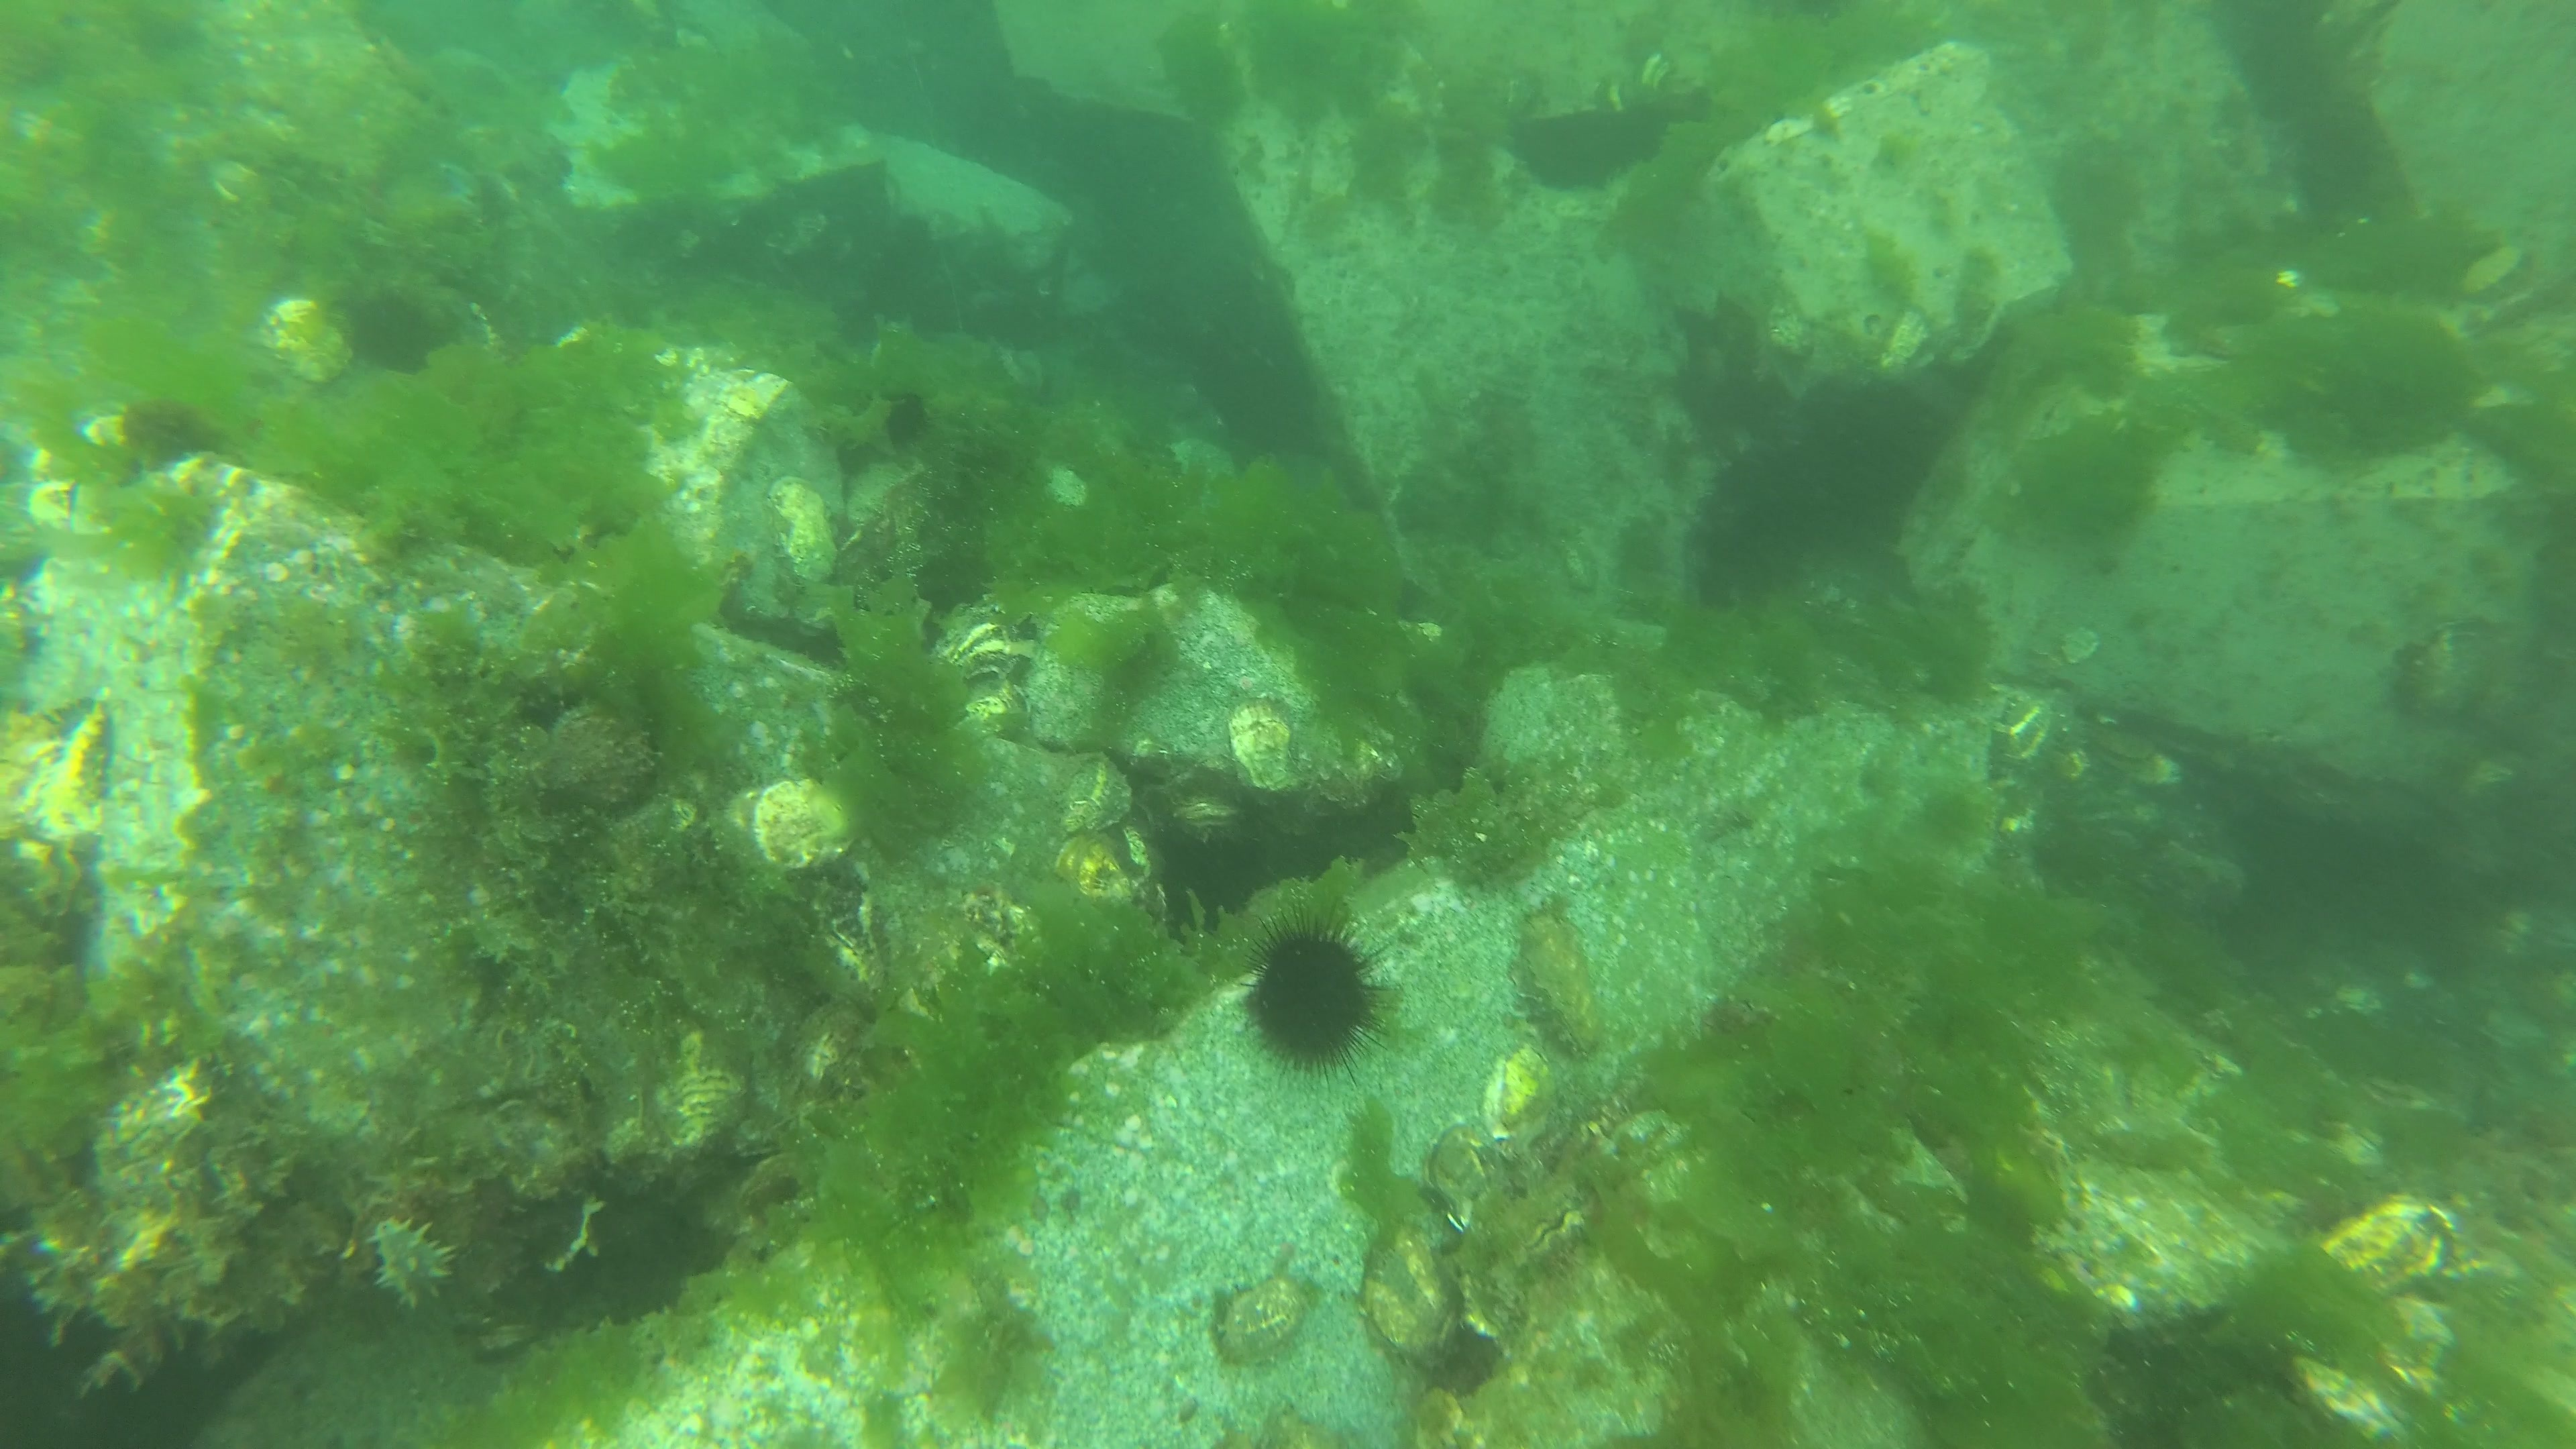echinus: (1233, 901, 1394, 1092), (336, 287, 441, 379), (883, 393, 941, 449)
holothurian: (366, 1215, 460, 1311)
